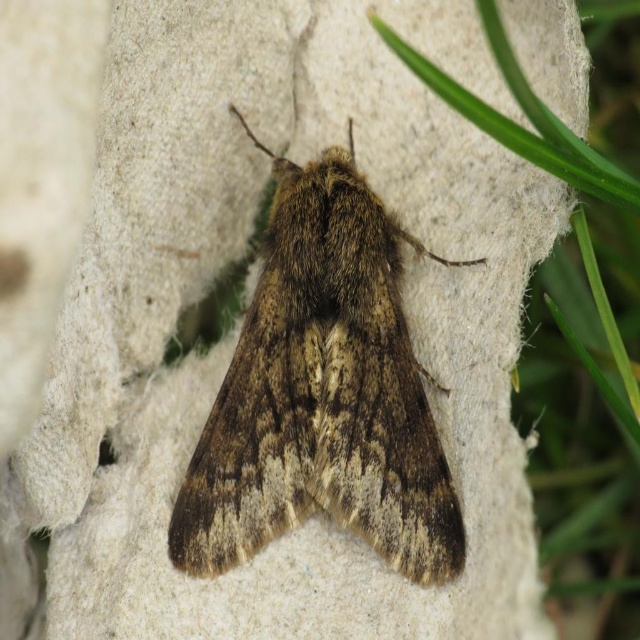Moths and butterflies: (166, 99, 492, 597)
